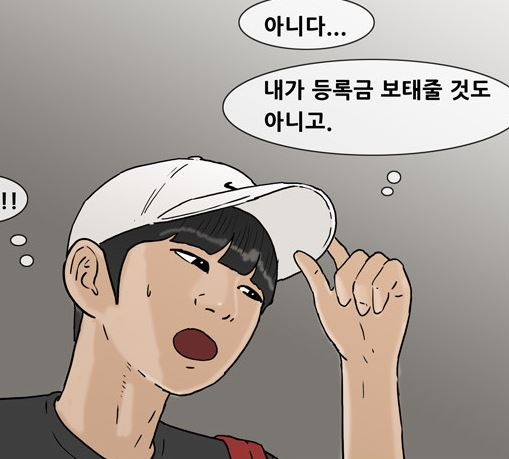hat: (64, 152, 342, 278)
